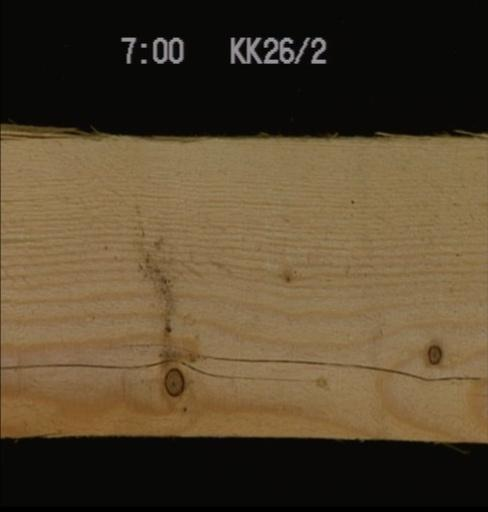dry_knot: (161, 364, 184, 396), (424, 341, 442, 365)
small_knot: (273, 263, 302, 291)
split: (0, 351, 315, 388), (204, 351, 482, 384)
